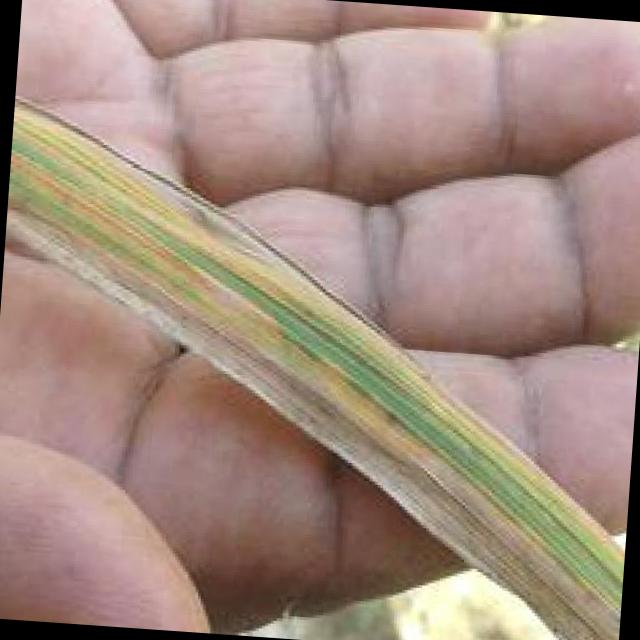Rice_Bacterial_Blight: (0, 84, 595, 569)
